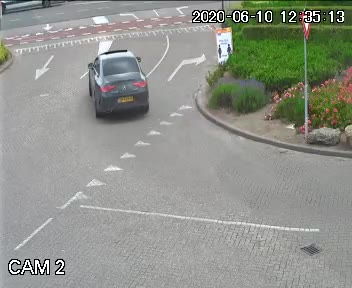car: (85, 45, 150, 121)
